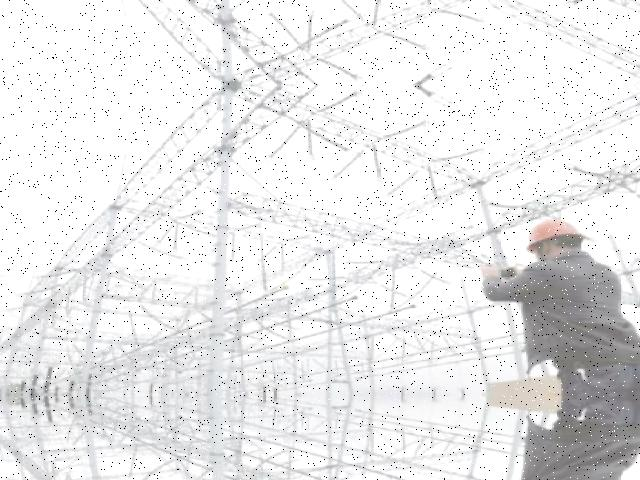Helmet: (520, 214, 590, 255)
